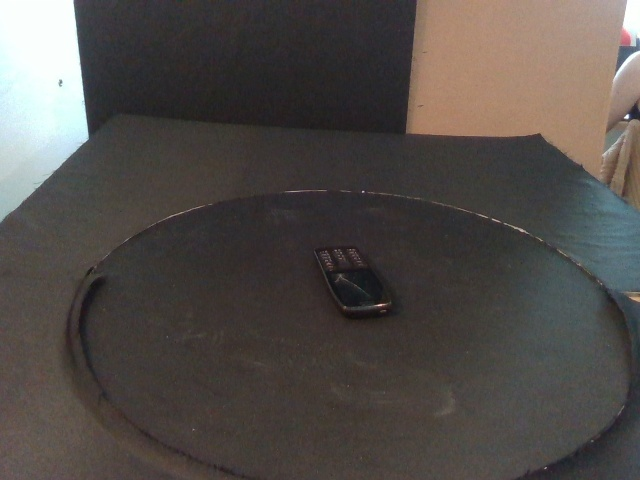phone: (313, 244, 393, 321)
